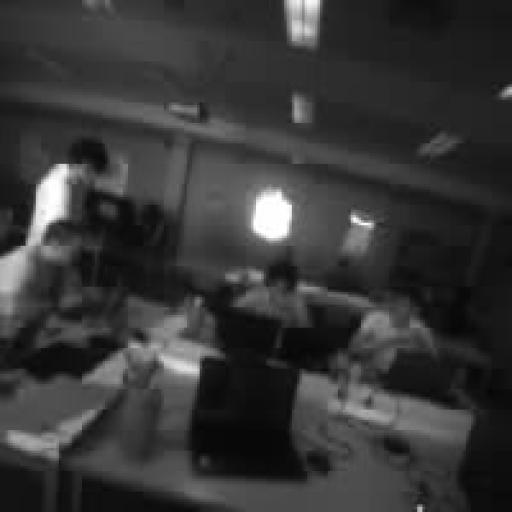human: (0, 221, 81, 355), (336, 292, 437, 381), (26, 139, 110, 245), (233, 262, 312, 327)
